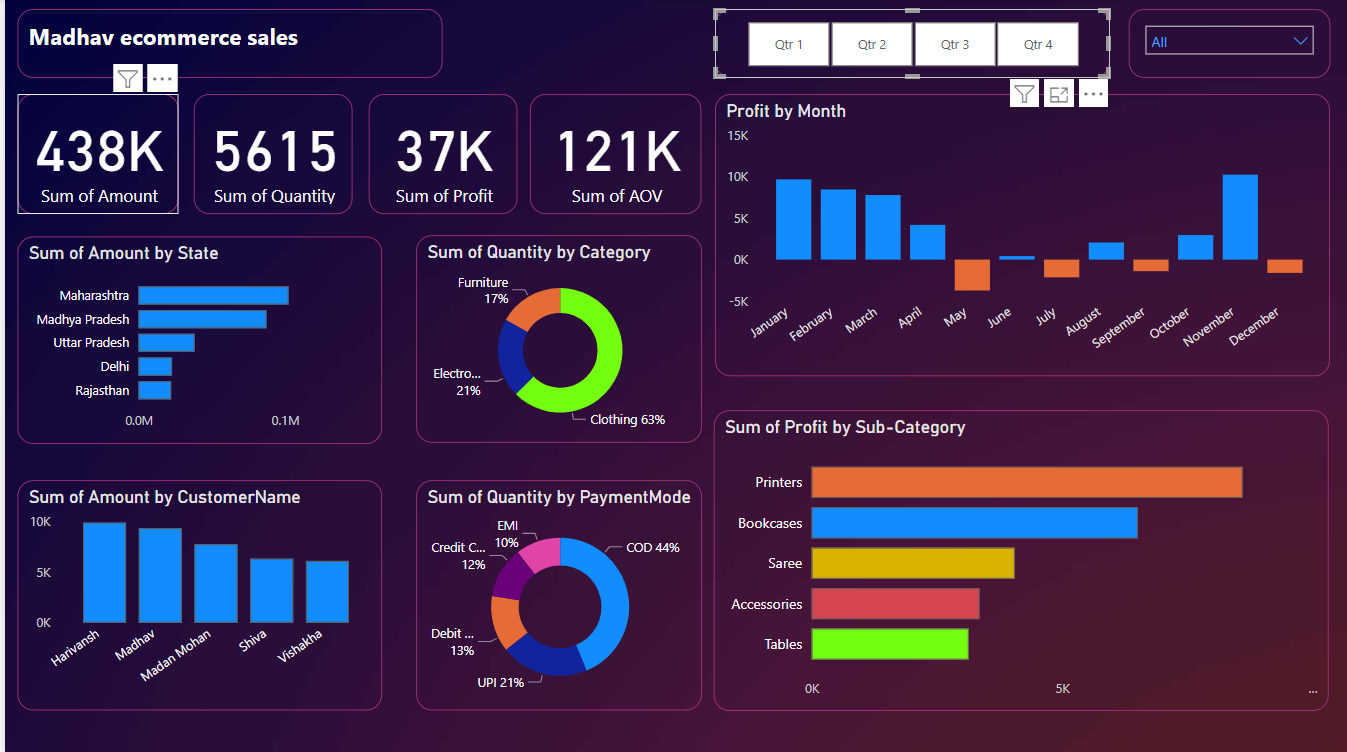

What the dashboard file says about the page in this screenshot:
{"tool":"powerbi","page":{"name":"Page 1","canvas":[1280,720],"ordinal":0},"visuals":[{"type":"textbox","box":[12.3,9.6,404.8,65.9],"z":0},{"type":"columnChart","title":"Profit by Month","fields":{"Y":["Details.Profit"],"Category":["Orders.Order Date.Variation.Date Hierarchy.Month"]},"box":[676.5,90.6,585.9,269],"z":1000},{"type":"barChart","fields":{"Category":["Details.Sub-Category"],"Y":["Details.Profit"]},"box":[675.1,391.1,585.9,286.8],"z":2000},{"type":"donutChart","fields":{"Category":["Details.Category"],"Y":["Details.Quantity"]},"box":[372.6,226.2,272.6,197.6],"z":3000},{"type":"donutChart","fields":{"Y":["Details.Quantity"],"Category":["Details.PaymentMode"]},"box":[372.6,458.3,272.6,219],"z":4000},{"type":"card","fields":{"Values":["Details.Amount"]},"box":[11.9,90.5,153.6,114.3],"z":5000},{"type":"card","fields":{"Values":["Details.Quantity"]},"box":[179.8,90.5,151.2,114.3],"z":6000},{"type":"card","fields":{"Values":["Details.Profit"]},"box":[346.4,90.5,141.7,114.3],"z":7000},{"type":"card","fields":{"Values":["Details.AOV"]},"box":[500,90.5,163.1,114.3],"z":8000},{"type":"barChart","fields":{"Category":["Orders.State"],"Y":["Details.Amount"]},"box":[12.3,226.4,347.2,197.6],"z":9000},{"type":"columnChart","fields":{"Y":["Details.Amount"],"Category":["Orders.CustomerName"]},"box":[12.3,458.3,347.2,219.6],"z":10000},{"type":"slicer","fields":{"Values":["Orders.Order Date.Variation.Date Hierarchy.Quarter"]},"box":[676.5,9.6,376,65.9],"z":11000},{"type":"slicer","fields":{"Values":["Orders.State"]},"box":[1070.3,9.6,192.1,65.9],"z":11001}]}

Visuals, with their boxes in screenshot pixels (x1, y1, x2, y2), scaled from the page's 1280x720 canvas onto the 1347x752 screenshot:
textbox: rect(13, 10, 439, 79)
"Profit by Month" columnChart: rect(712, 95, 1328, 376)
barChart - Details.Sub-Category x Details.Profit: rect(710, 408, 1327, 708)
donutChart - Details.Category x Details.Quantity: rect(392, 236, 679, 443)
donutChart - Details.Quantity x Details.PaymentMode: rect(392, 479, 679, 707)
card - Details.Amount: rect(13, 95, 174, 214)
card - Details.Quantity: rect(189, 95, 348, 214)
card - Details.Profit: rect(365, 95, 514, 214)
card - Details.AOV: rect(526, 95, 698, 214)
barChart - Orders.State x Details.Amount: rect(13, 236, 378, 443)
columnChart - Details.Amount x Orders.CustomerName: rect(13, 479, 378, 708)
slicer - Orders.Order Date.Variation.Date Hierarchy.Quarter: rect(712, 10, 1108, 79)
slicer - Orders.State: rect(1126, 10, 1328, 79)
